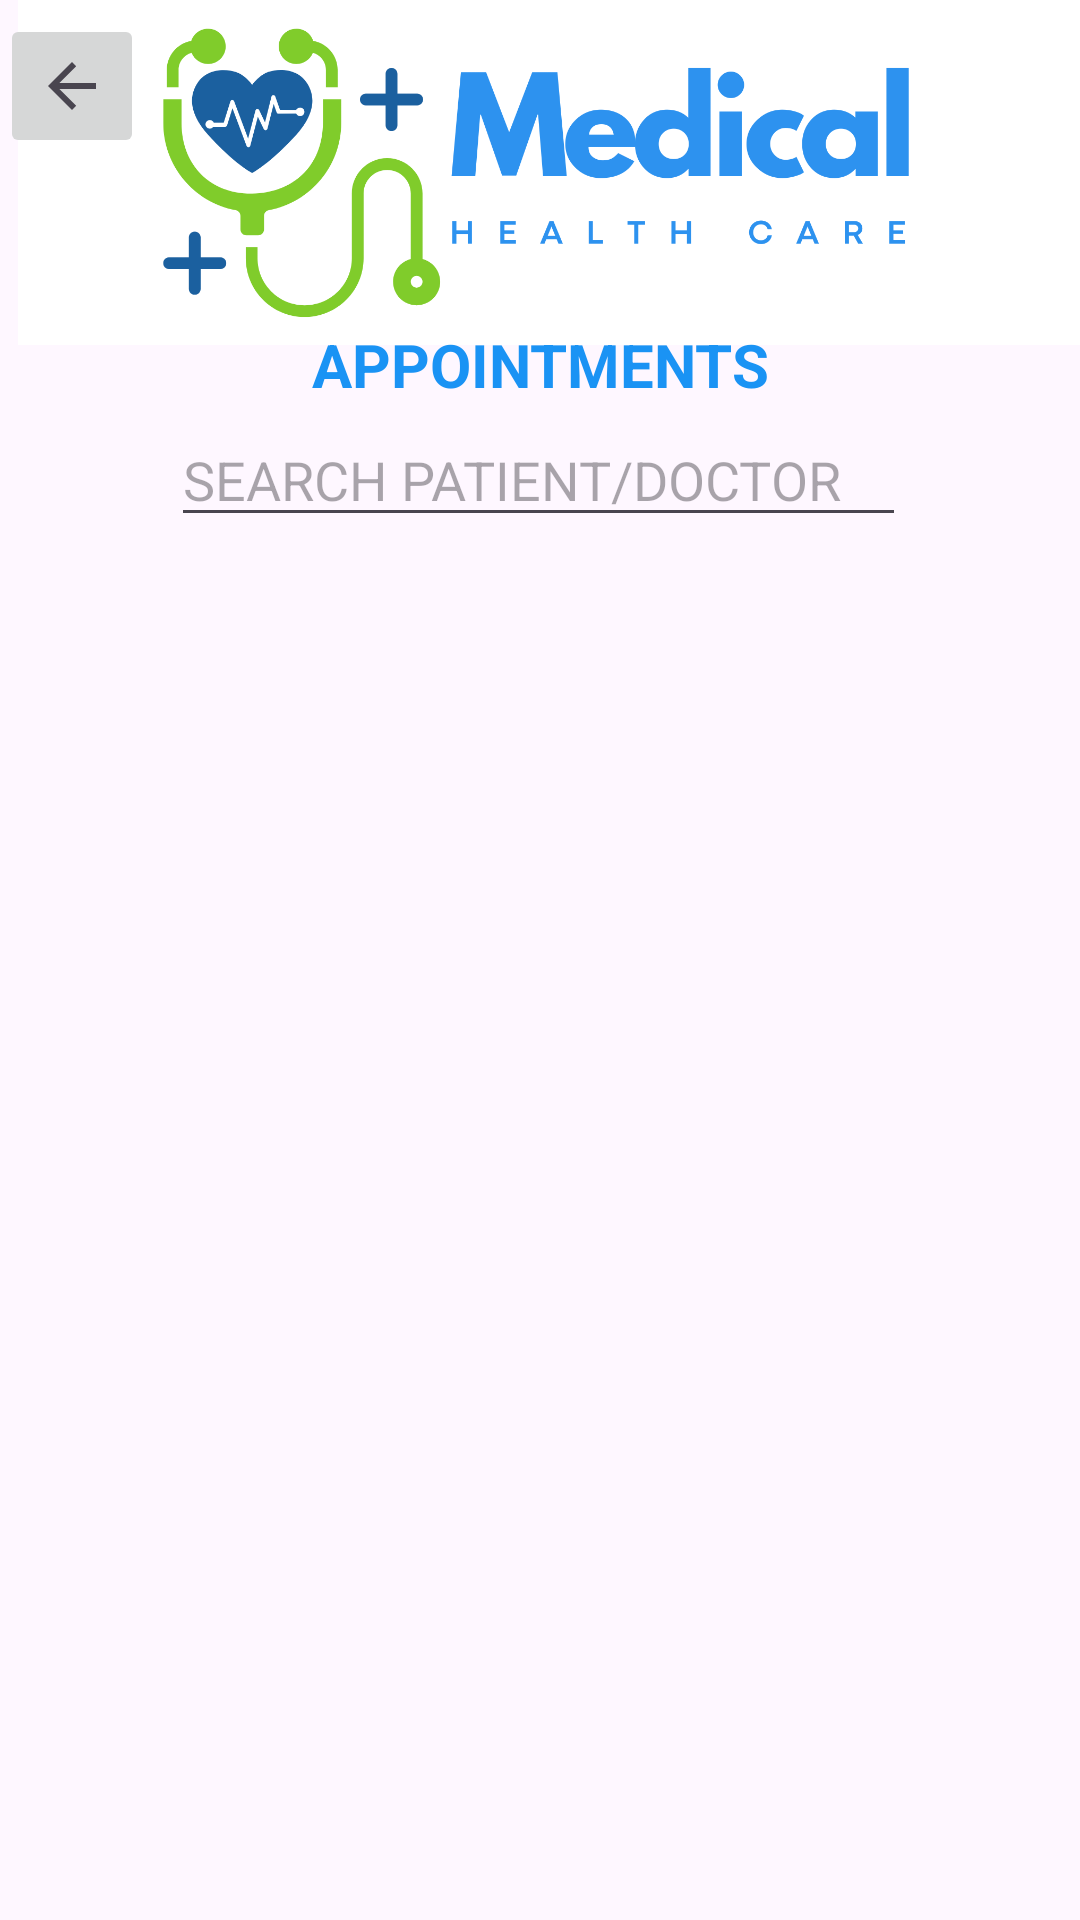

Icon click points for this 1080x1920 phone screenshot, format point (x, y):
Back Button: point (72, 86)
